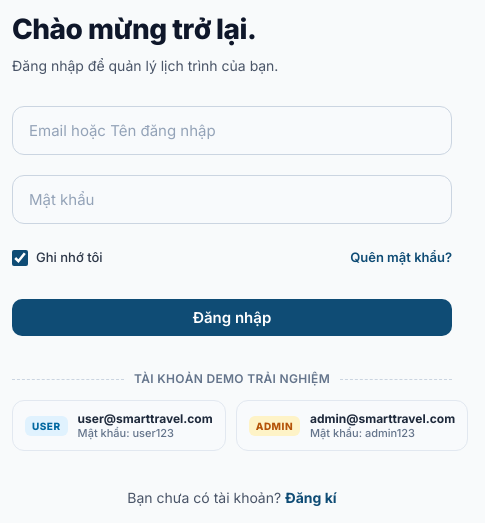
Test case: Login.jsx › Validation (client-side) › hiển thị lỗi khi mật khẩu ít hơn 6 ký tự
Type "user@example.com" into the field with placeholder "Email hoặc Tên đăng nhập".
click(232, 130); type("user@example.com")  # box [12, 106, 452, 155]
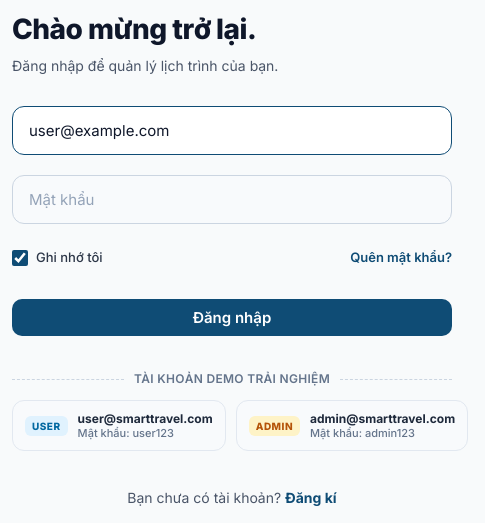
Type "123" into the password field with placeholder "Mật khẩu".
click(232, 199); type("123")  # box [12, 175, 452, 224]
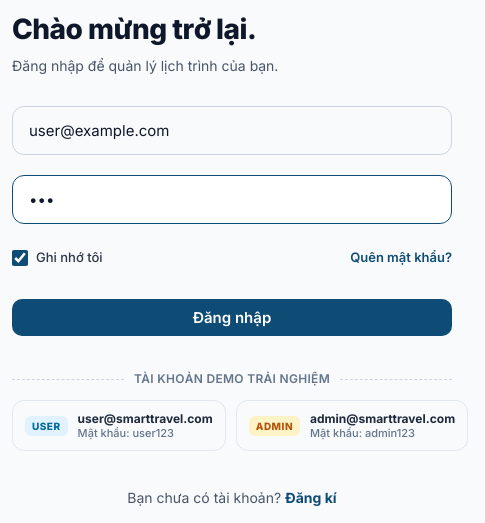
Click the button "Đăng nhập".
click(232, 318)  # box [12, 299, 452, 336]
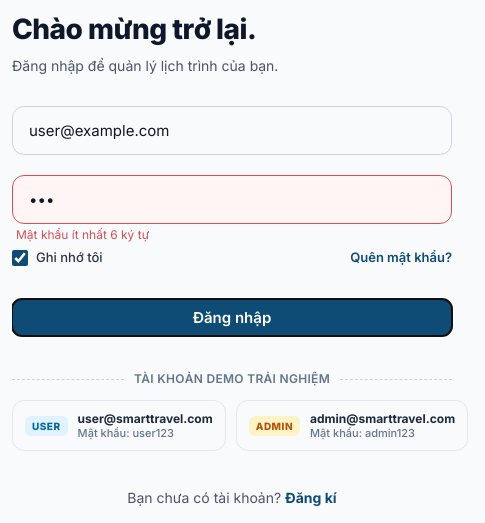
Expected: the text "Mật khẩu ít nhất 6 ký tự" is shown, [16, 226, 149, 244]
